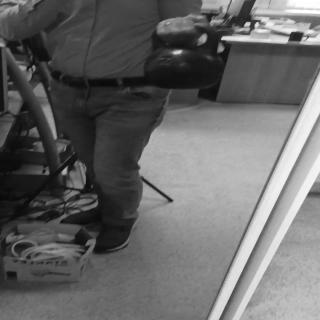kettlebell: (145, 24, 222, 90)
